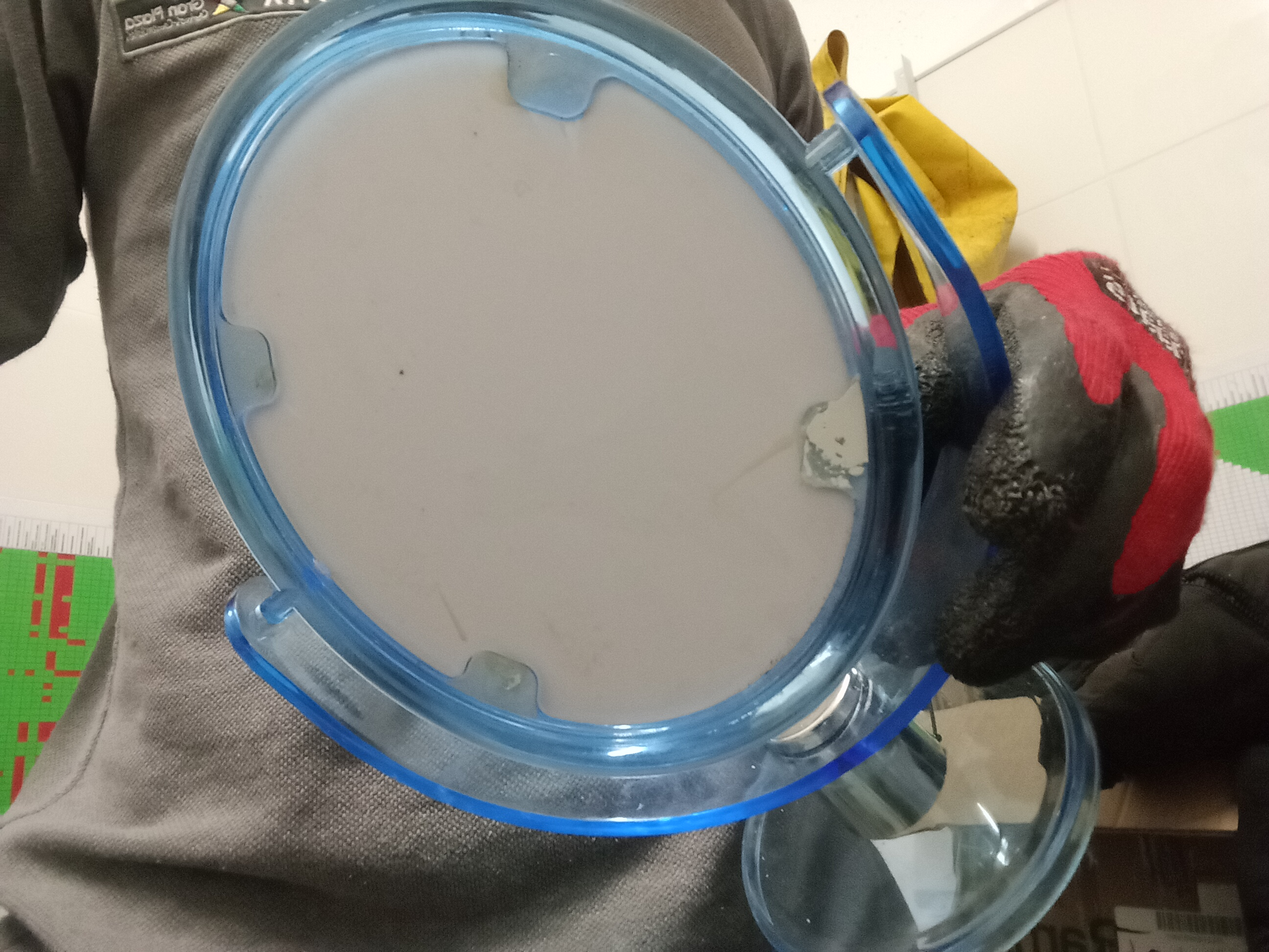Ordinario: (169, 3, 1104, 952)
